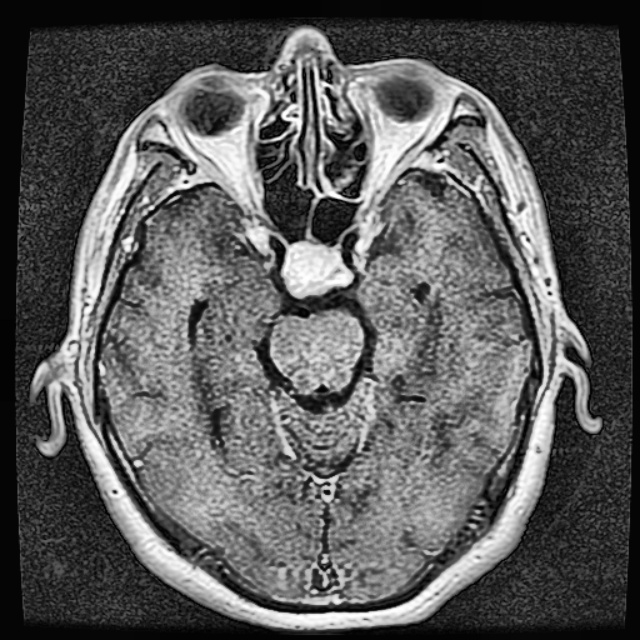Glioma: (282, 239, 354, 299)
